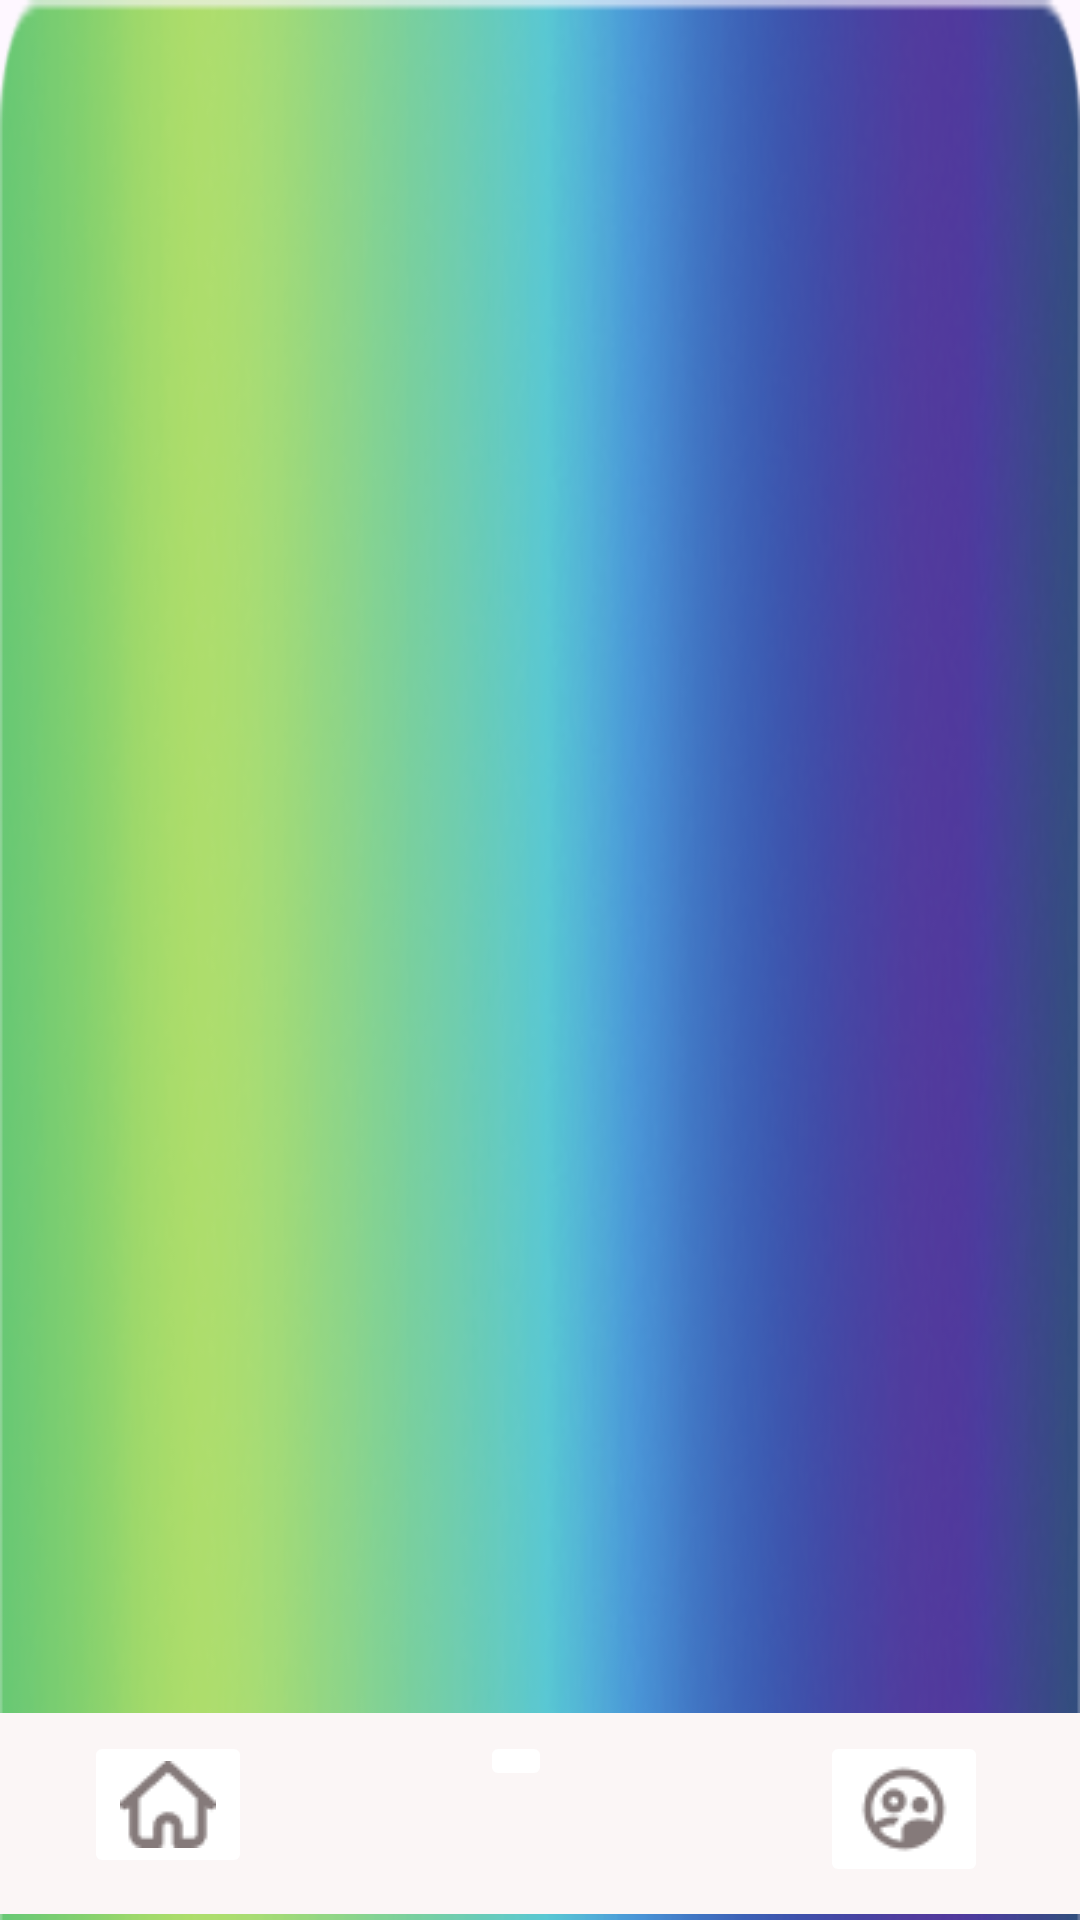

Screen size 1080px×1920px. Icon name, then its box in pixels as (x1, y1, x2, y2):
home: (96, 1749, 240, 1860)
